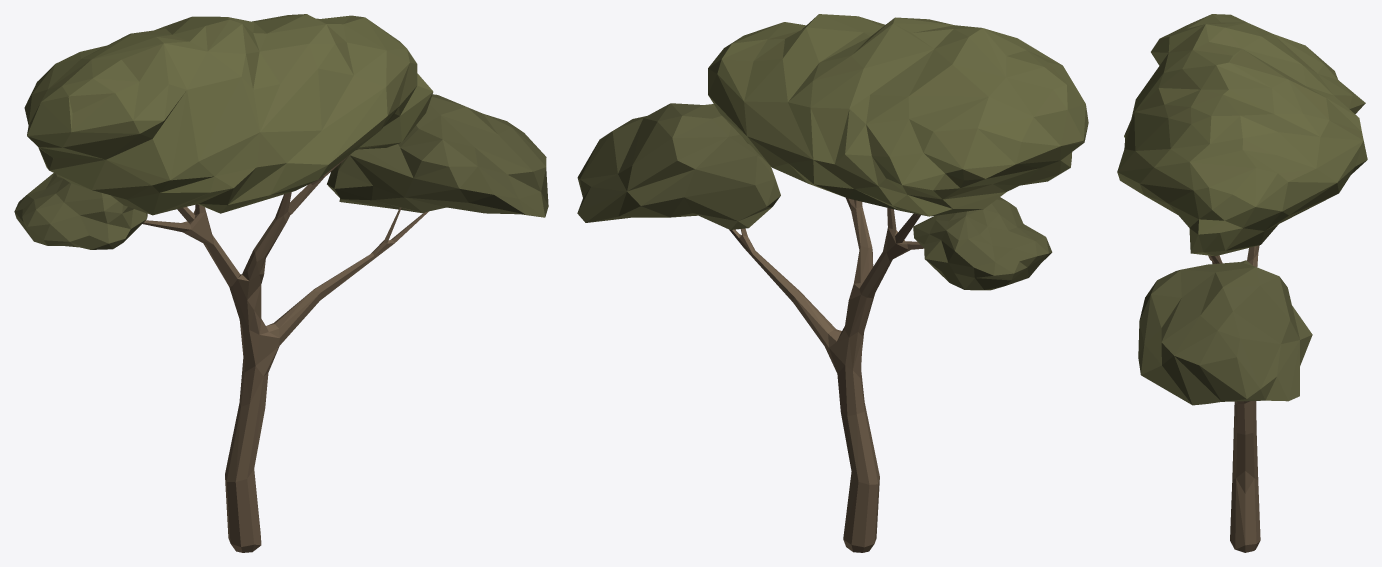
The model's file is SM_Envr_Nature_Tree_08.fbx.
3 views of the same model, side by side, from view 1: azimuth 30°, elevation 25°; view 2: azimuth 150°, elevation 25°; view 3: azimuth 270°, elevation 25° (orthographic). The views are drawn at different scales.
Visible parts, largest first — view 1: SM_Envr_Nature_Tree_08; view 2: SM_Envr_Nature_Tree_08; view 3: SM_Envr_Nature_Tree_08.
Boxes of the visible parts, x1,y1,x2,y2 form: SM_Envr_Nature_Tree_08: [14, 14, 548, 552]; SM_Envr_Nature_Tree_08: [577, 14, 1088, 552]; SM_Envr_Nature_Tree_08: [1117, 14, 1367, 552].
Bounding box in the file's own units: 464 × 472 × 222.
